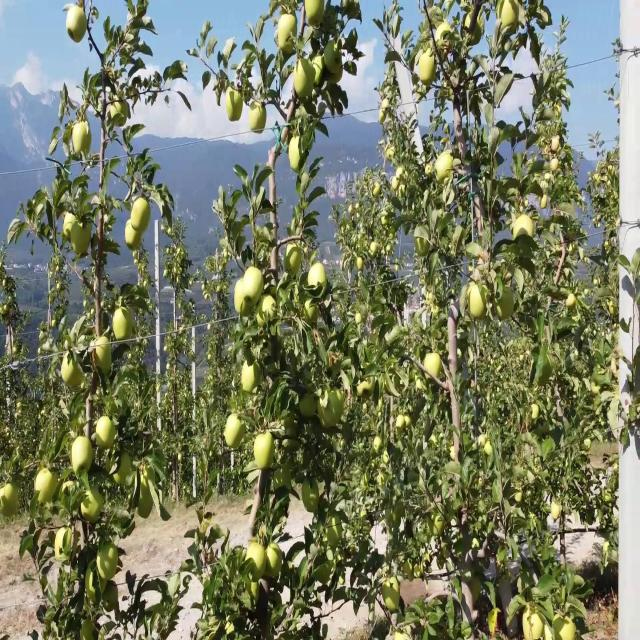apple: (320, 391, 344, 430), (72, 440, 95, 476), (296, 56, 314, 101), (324, 42, 343, 84), (256, 433, 276, 471), (244, 270, 264, 308), (36, 469, 57, 505), (68, 7, 88, 44), (132, 199, 152, 235), (280, 14, 296, 57), (236, 277, 252, 320), (84, 490, 104, 524), (308, 263, 328, 297), (96, 419, 116, 452), (248, 540, 265, 578), (500, 0, 519, 34), (512, 213, 534, 242), (100, 547, 120, 578), (96, 341, 113, 377), (64, 355, 82, 389), (248, 106, 268, 135), (72, 227, 92, 256), (324, 56, 344, 85), (76, 120, 92, 156), (524, 611, 544, 639), (116, 312, 135, 341), (112, 99, 131, 128), (472, 284, 487, 320), (228, 419, 245, 450), (304, 483, 321, 514), (420, 56, 438, 85), (300, 391, 318, 420), (260, 298, 278, 327), (72, 234, 92, 260), (128, 220, 144, 252), (4, 483, 19, 517), (228, 92, 244, 123), (256, 298, 272, 329), (436, 156, 453, 185), (116, 455, 132, 485), (308, 0, 325, 28), (268, 547, 283, 578), (304, 298, 320, 327), (288, 248, 304, 277), (500, 291, 516, 320), (104, 583, 120, 612), (384, 583, 400, 612), (328, 519, 343, 548), (244, 362, 258, 393), (424, 355, 441, 380), (4, 483, 20, 508), (292, 142, 305, 172), (140, 490, 153, 519), (312, 56, 324, 87), (116, 462, 132, 485), (416, 234, 431, 258), (420, 71, 437, 91), (560, 618, 576, 639), (64, 213, 76, 240), (252, 362, 263, 391), (296, 7, 306, 37), (88, 568, 96, 603), (112, 469, 126, 485), (396, 412, 404, 439), (248, 583, 261, 599), (464, 14, 477, 30), (364, 376, 376, 393), (140, 469, 150, 489), (372, 440, 384, 455), (404, 412, 414, 430), (492, 298, 500, 320), (552, 135, 561, 153), (432, 305, 442, 320), (64, 127, 72, 144), (552, 504, 561, 519), (372, 184, 381, 199), (532, 405, 540, 421), (428, 163, 435, 181), (380, 106, 387, 124), (356, 255, 364, 270), (372, 241, 379, 258), (376, 476, 385, 489), (540, 199, 549, 212), (384, 447, 390, 466), (392, 177, 399, 192), (356, 312, 363, 327), (388, 149, 396, 162), (568, 298, 577, 309), (592, 383, 600, 395), (552, 156, 558, 171), (400, 184, 406, 199), (400, 170, 407, 180)
